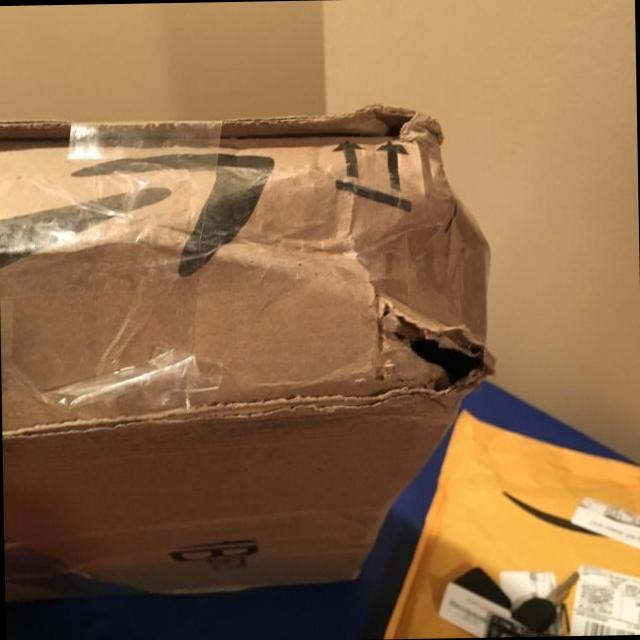crushed: (1, 113, 355, 417)
tear: (376, 309, 486, 403)
